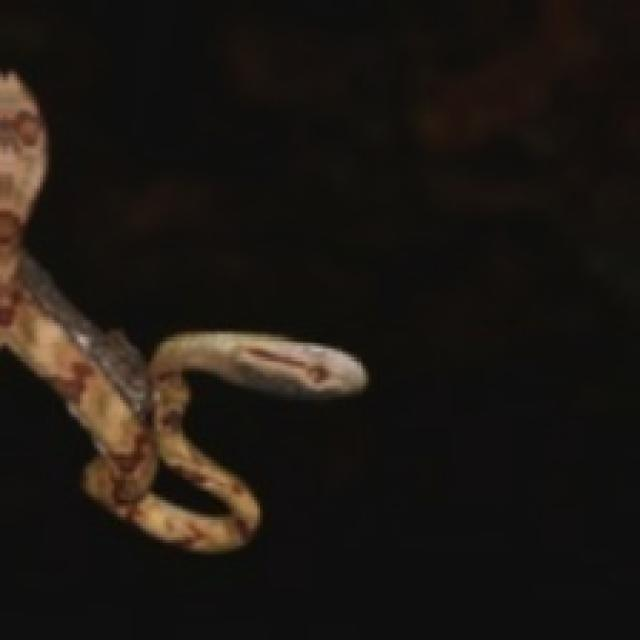dog-toothed cat snake: (0, 71, 366, 551)
